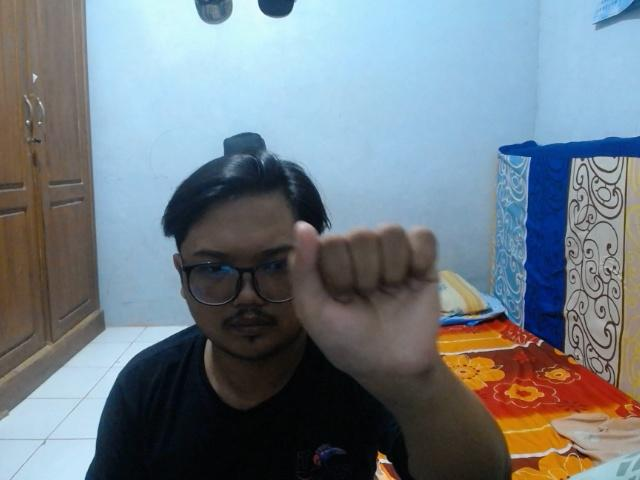Grab: (286, 216, 448, 390)
